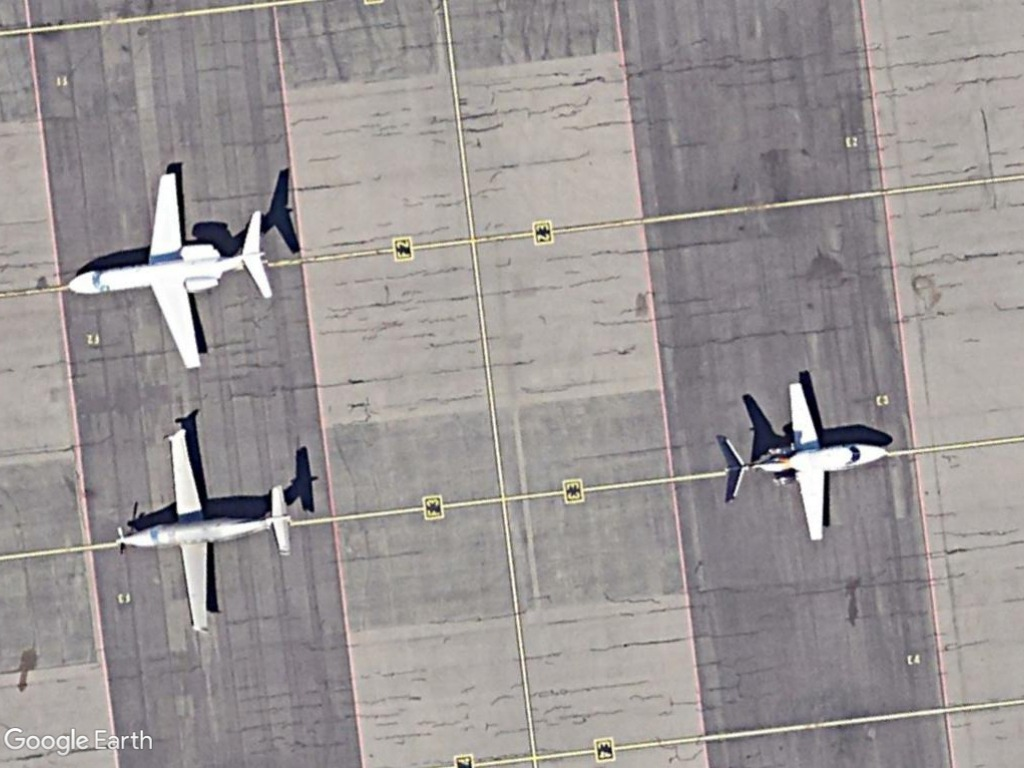chartered: (54, 165, 277, 372), (712, 378, 893, 546)
trainer: (109, 431, 296, 634)
